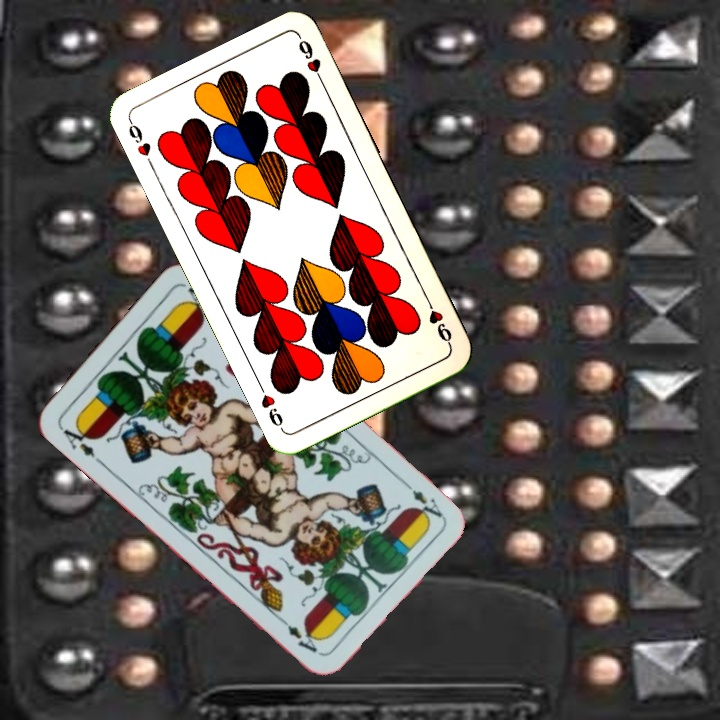EA: (398, 475, 445, 522), (56, 418, 98, 461)
H9: (421, 294, 455, 349), (124, 116, 154, 159)
